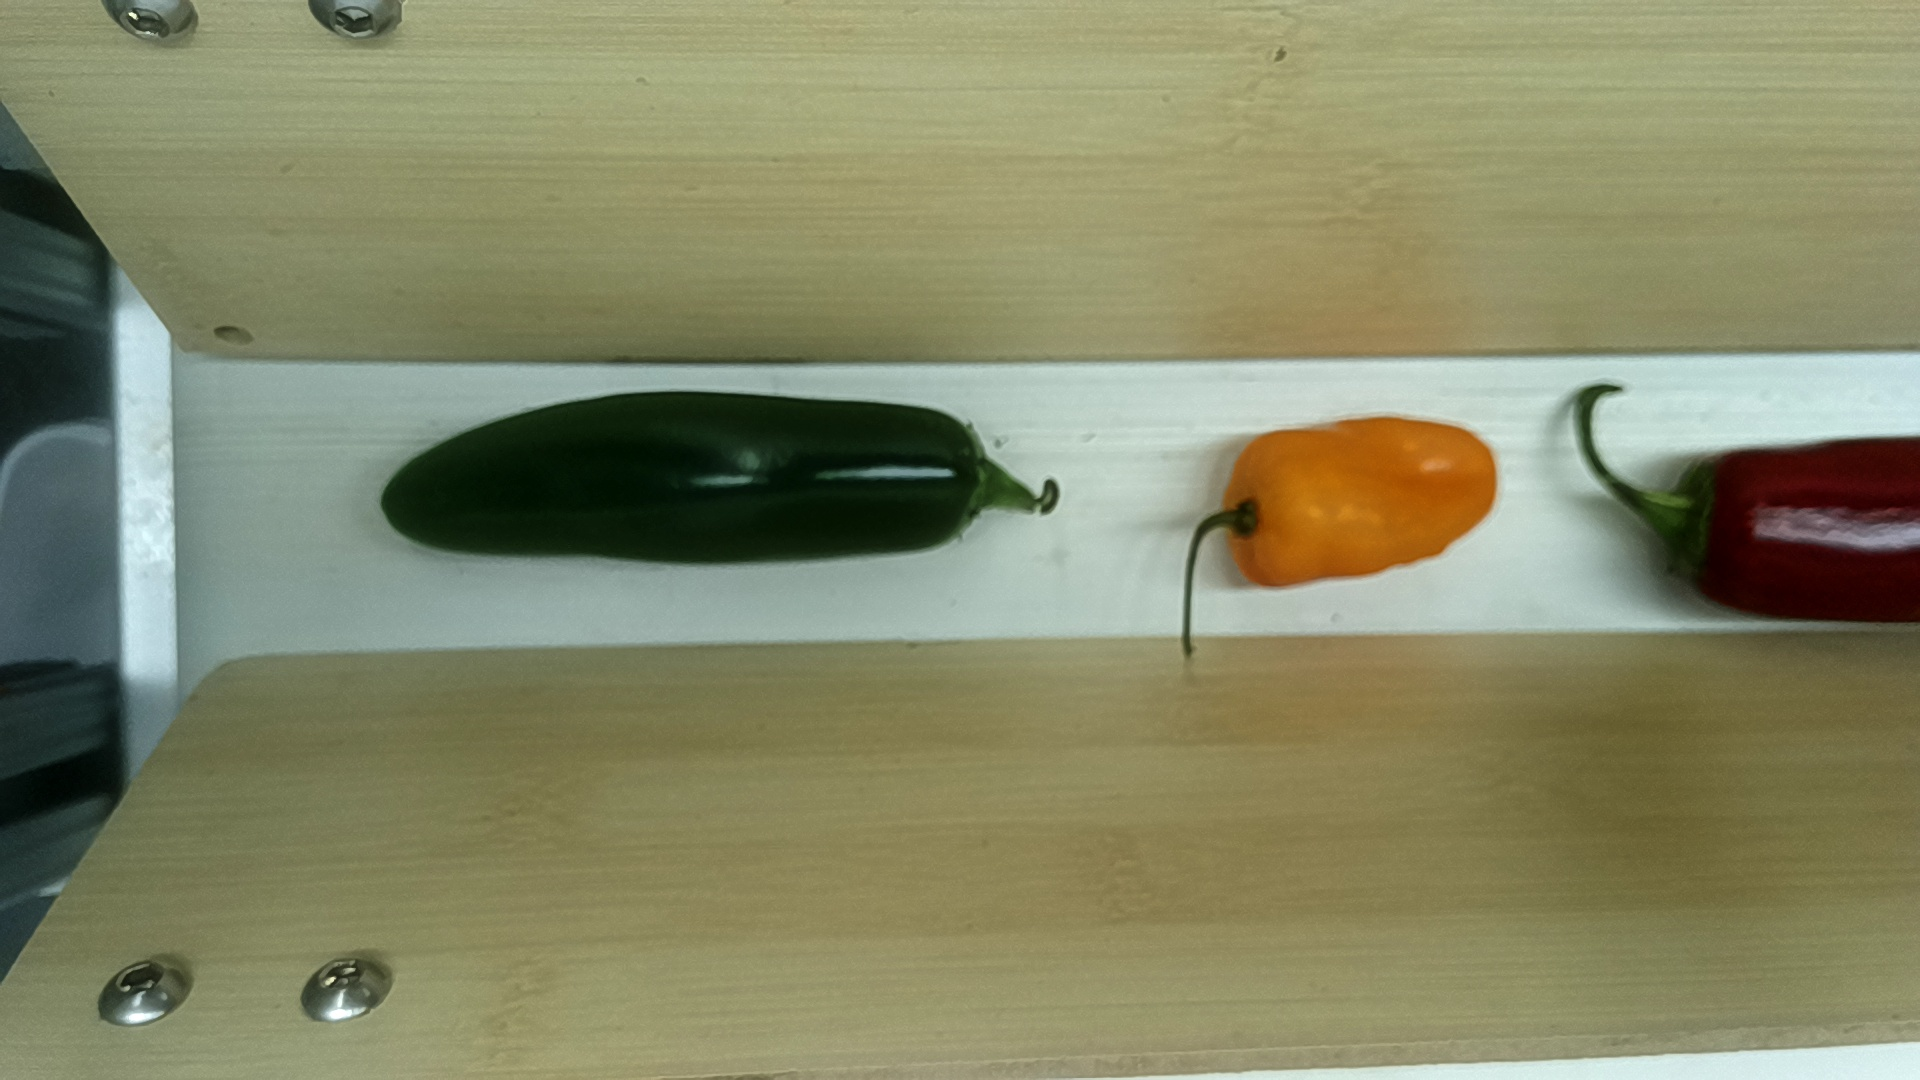Cut Point: (926, 400, 1009, 554), (1671, 440, 1741, 616), (1233, 429, 1280, 599)
